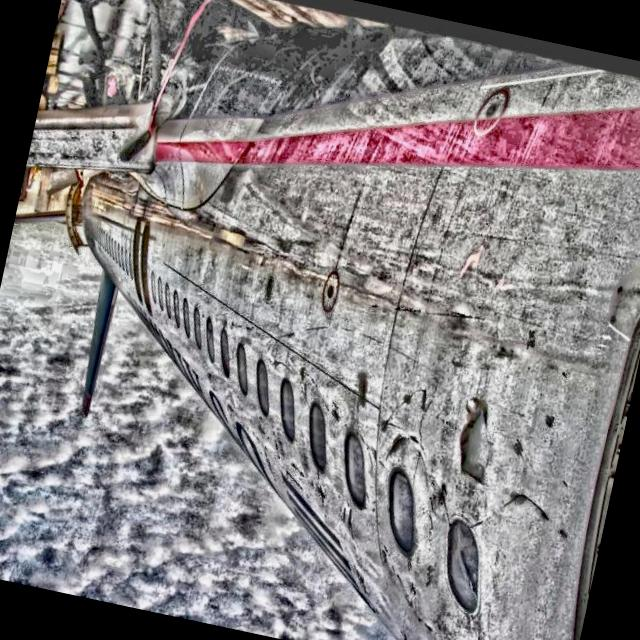crack: (445, 392, 505, 486)
